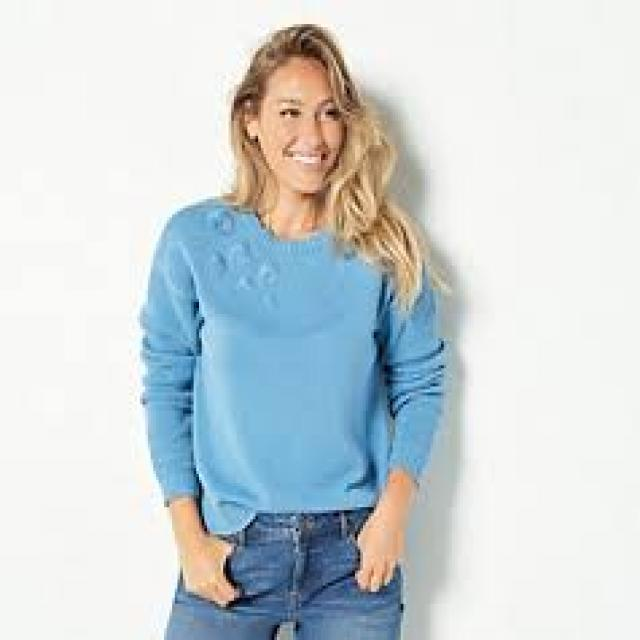plain: (134, 191, 452, 514)
